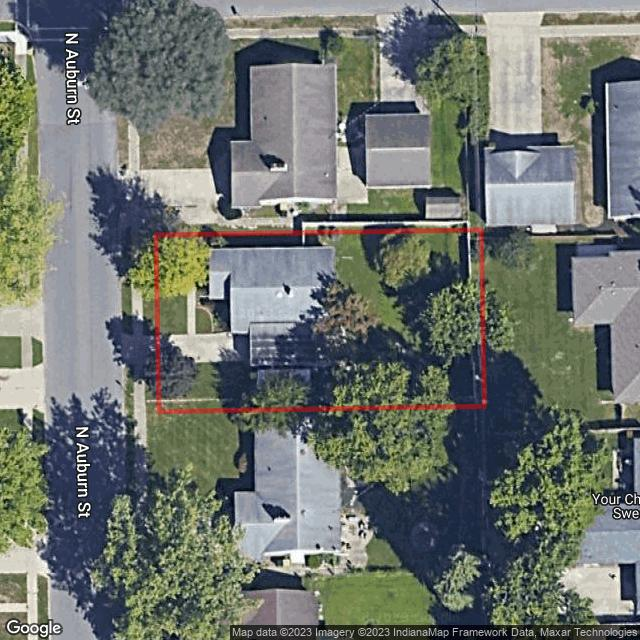Driveway: (161, 332, 248, 362)
Extra Driveway: (122, 336, 154, 365)
Extra Lawn: (161, 297, 186, 333), (121, 282, 133, 339), (124, 366, 135, 414), (144, 300, 154, 336), (146, 386, 157, 402)
Extra Sidewalk: (133, 364, 148, 413), (132, 285, 143, 336)
House: (208, 247, 337, 367)
Sidewalk: (195, 299, 230, 331), (186, 289, 196, 335)
